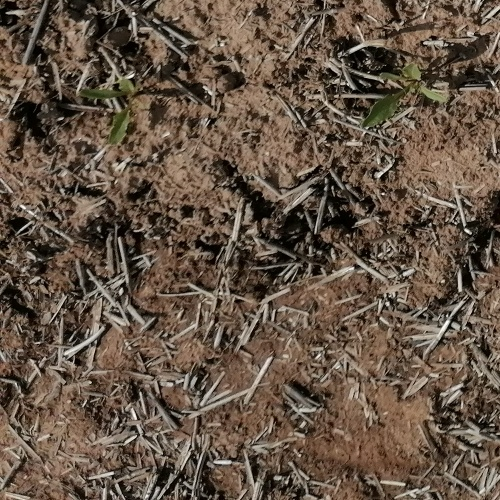beet: (362, 62, 447, 127), (82, 81, 135, 146)
